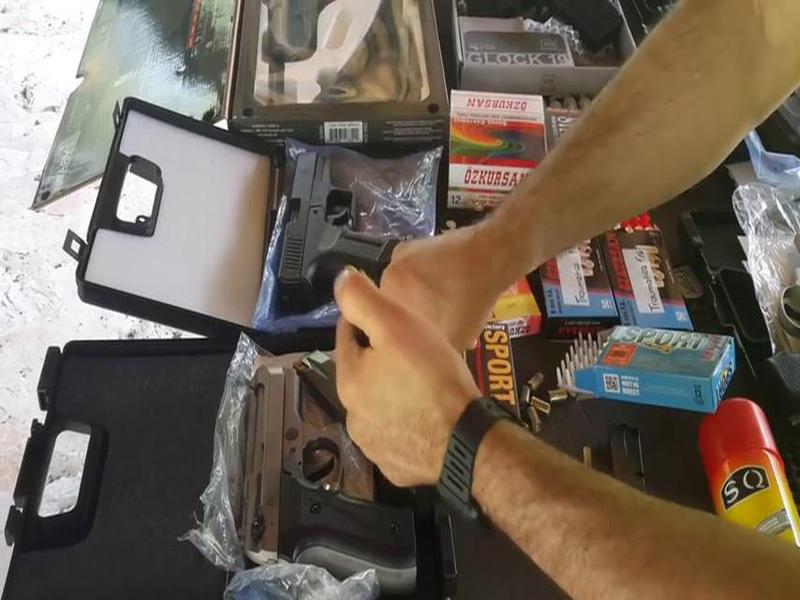Pistola: (223, 345, 419, 589), (268, 140, 427, 322)
